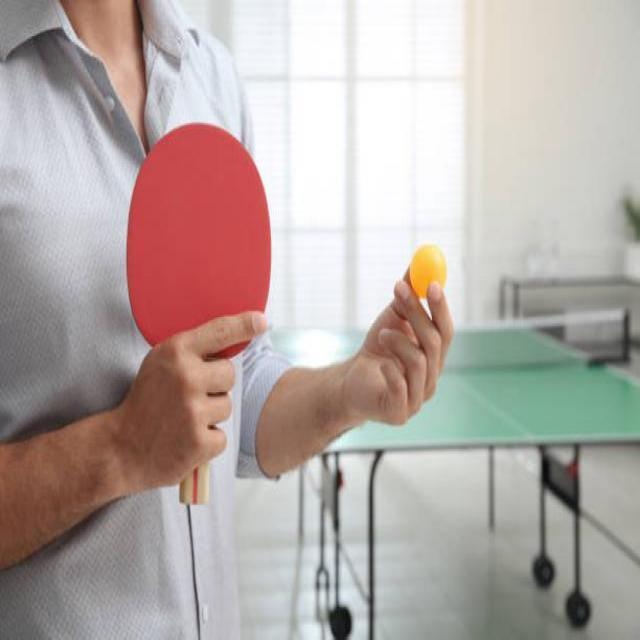oball: (410, 244, 448, 291)
